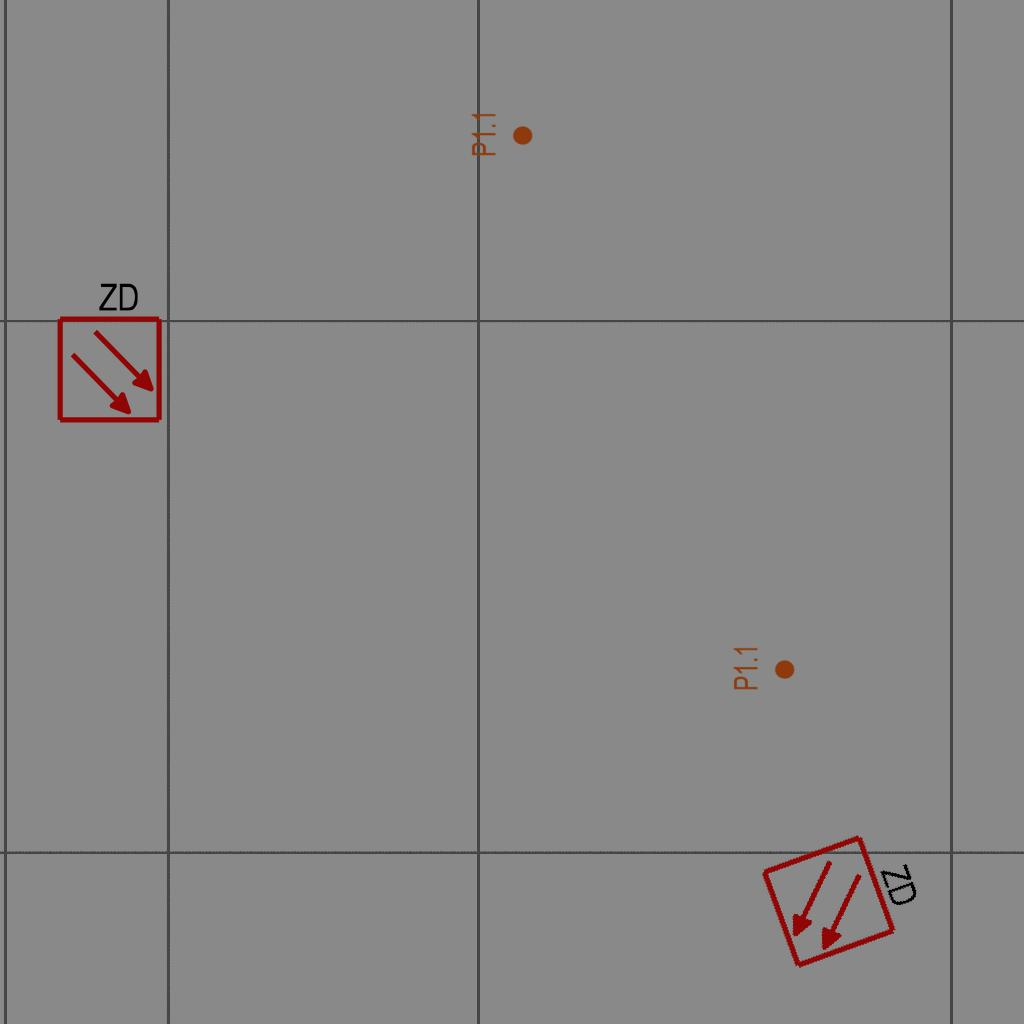Downlight_LED_Einbauleuchten_Flur: (732, 645, 796, 691), (470, 111, 534, 157)
ZD_Melder_in_Zwischendecke_mit_Revisionsoeffnung_mind_40_x_40_cm: (756, 814, 936, 973), (51, 276, 165, 425)
